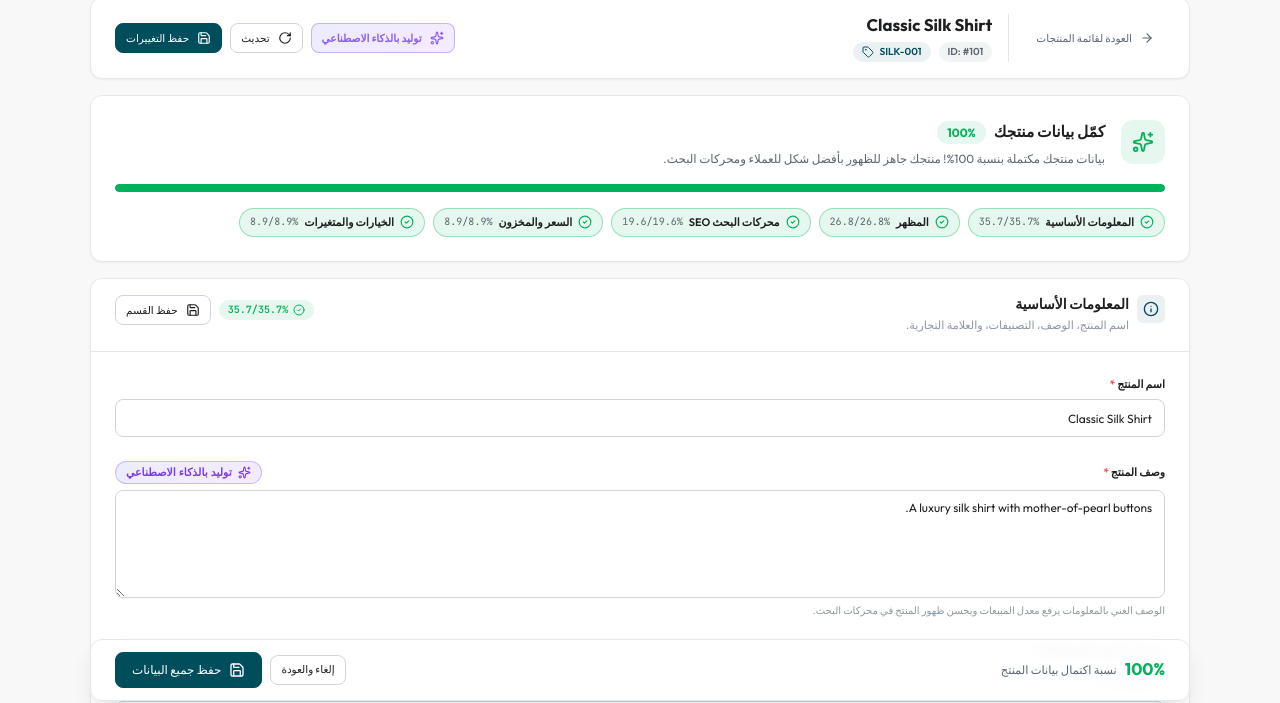
ProductEditor › blocks saving when the sale price is not below the regular price
The width and height of the screenshot is (1280, 703).
Step 1. Click the button "حفظ جميع البيانات" → (189, 670), box [115,652,262,688]
(page scrolled)
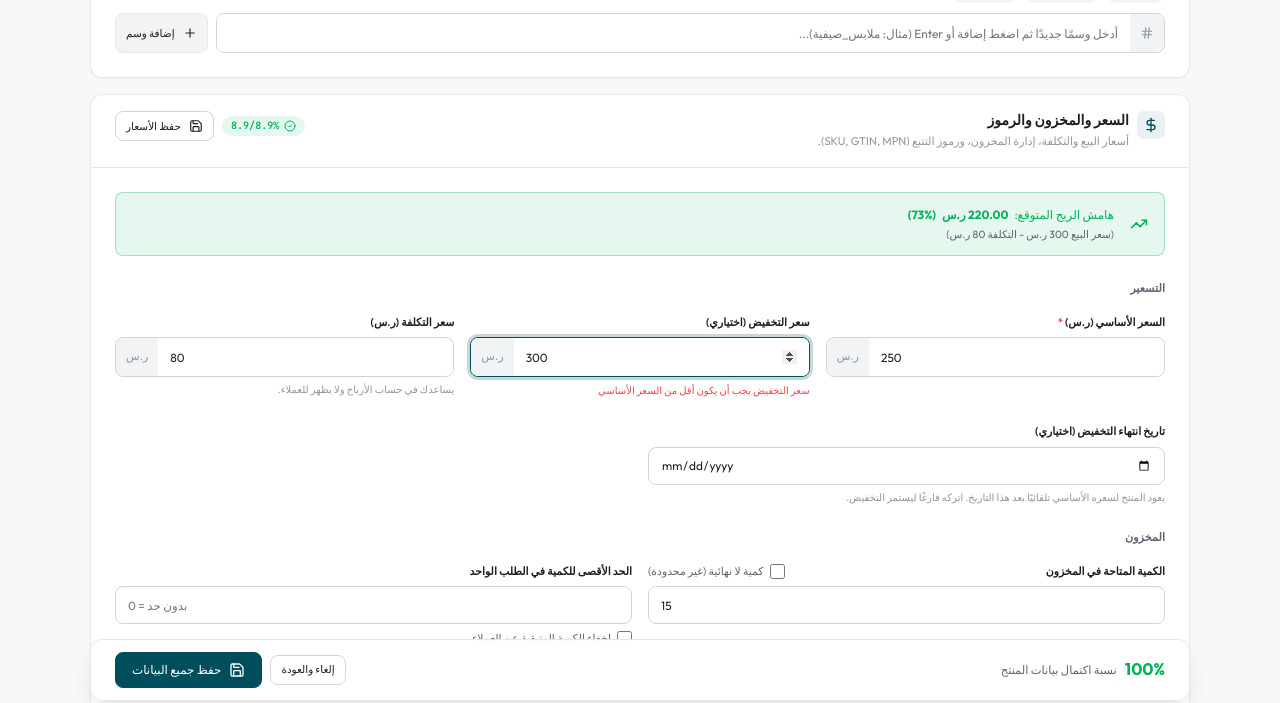
Expected: the text "سعر التخفيض يجب أن يكون أقل من السعر الأساسي" is shown, [598,384,810,397]
